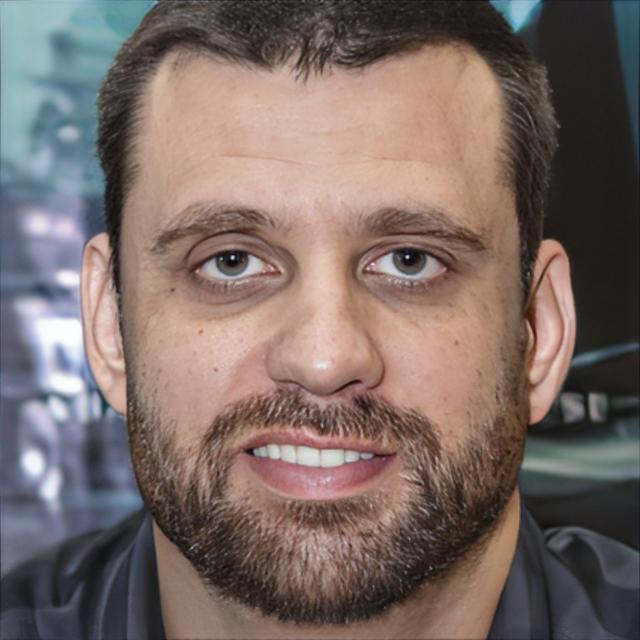content: (114, 32, 528, 620)
